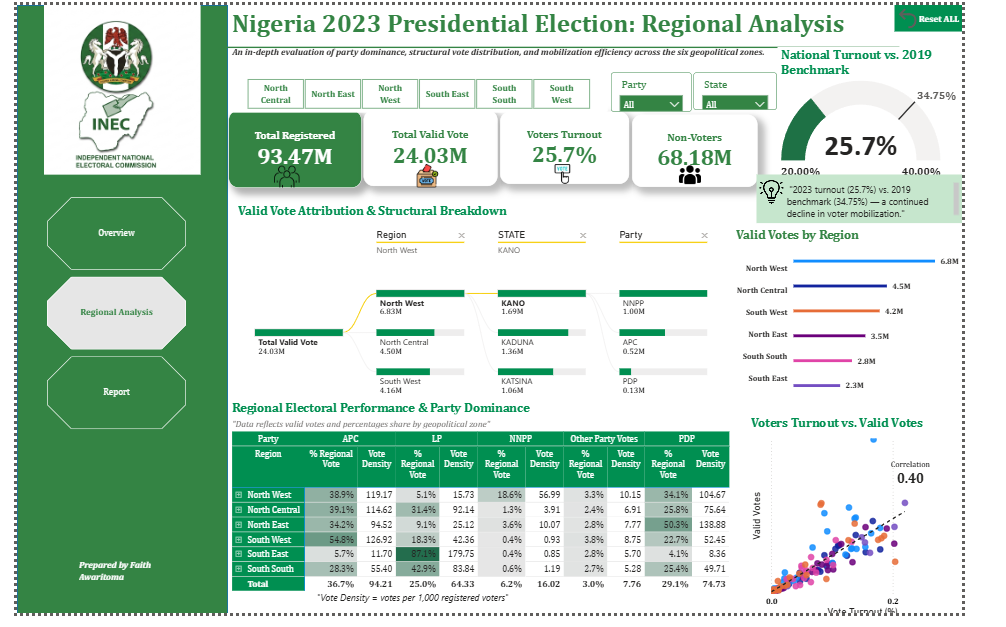

This screenshot's page, from the dashboard's own definition file:
{"tool":"powerbi","page":{"name":"Regional Analysis","canvas":[1400,900],"ordinal":1},"visuals":[{"type":"shape","box":[0,0,312.5,912.5],"z":0},{"type":"shape","box":[310.6,0,995.7,125.5],"z":1000},{"type":"textbox","box":[312.8,0,961.7,63.8],"z":2000},{"type":"image","title":"INEC logo","box":[0,0,312,251],"z":3000},{"type":"cardVisual","title":"Total Registered","fields":{"Data":["Dim_State.Total Registered"]},"box":[312.5,156.2,197.5,115],"z":4000},{"type":"cardVisual","title":"Valid Vote Cast","fields":{"Data":["Sum(Fact_Results.Total Valid Vote)"]},"box":[512.5,156.2,198.8,112.5],"z":5000},{"type":"cardVisual","title":"Voters Tuenout","fields":{"Data":["presidential-elections-results.Voters Turnout"]},"box":[715,157.5,191.2,107.5],"z":6000},{"type":"cardVisual","title":"Non-Voters","fields":{"Data":["Dim_State.Non-Voters"]},"box":[910,161.2,186.2,107.5],"z":7000},{"type":"textbox","box":[310.7,53.3,804,46.7],"z":8000},{"type":"slicer","fields":{"Values":["presidential-elections-results- (2).Party"]},"box":[879,100,119,58],"z":9000},{"type":"slicer","fields":{"Values":["presidential-elections-results- (2).STATE"]},"box":[1002,100,123,55],"z":10000},{"type":"slicer","fields":{"Values":["Dim_State.Region"]},"box":[312.8,100,561.7,59.6],"z":11000},{"type":"pageNavigator","box":[43.9,283.3,206.1,347],"z":12000},{"type":"clusteredBarChart","title":"Valid Votes by Region","fields":{"Category":["Dim_State.Region"],"Series":["Dim_State.Region"],"Y":["Sum(Fact_Results.Total Valid Vote)"]},"box":[1059.3,329.6,340.7,255.6],"z":13000},{"type":"textbox","box":[87.5,812.5,184.4,48.4],"z":14000},{"type":"image","box":[365.4,234.6,70.4,37],"z":15000},{"type":"image","box":[960.5,234.6,74.1,32.1],"z":16000},{"type":"image","box":[582.7,235.8,51.9,34.6],"z":17000},{"type":"image","box":[772.8,235.8,69.1,29.6],"z":18000},{"type":"pivotTable","title":"Regional Electoral Performance & Party Dominance","fields":{"Columns":["Fact_Results.Party"],"Rows":["Dim_State.Region","Dim_State.STATE"],"Values":["Dim_State.% Regional Vote","Dim_State.Vote Density"]},"box":[313,585.2,783.3,296.3],"z":19000},{"type":"gauge","title":"National Turnout vs. 2019 Benchmark","fields":{"Y":["Fact_Results.Regional Turnout %"]},"box":[1125.9,63,274.1,201.9],"z":20000},{"type":"decompositionTreeVisual","title":"Valid Vote Attribution & Structural Breakdown","fields":{"Analyze":["Sum(Fact_Results.Total Valid Vote)"],"ExplainBy":["Dim_State.Region","Dim_State.STATE","Fact_Results.Party"]},"box":[322.2,292.6,713,292.6],"z":21000},{"type":"actionButton","box":[1300,0,100,39.4],"z":22000},{"type":"scatterChart","title":"Voters Turnout vs. Valid Votes","fields":{"Series":["Dim_State.Region"],"X":["Fact_Results.Voters Turnout"],"Y":["Fact_Results.Total Valid Vote"]},"box":[1081.2,606.2,318.8,304.7],"z":23000,"group":"g1"},{"type":"group","id":"g1","title":"Group 1","box":[1081.2,606.2,318.8,304.7],"z":23000},{"type":"shape","box":[1096.3,251.9,305.6,72.2],"z":23001},{"type":"textbox","box":[1135.2,257.4,264.8,61.1],"z":23002},{"type":"image","box":[1100,257.4,35.2,38.9],"z":23003},{"type":"textbox","box":[435.2,861.1,474.1,38.9],"z":23004},{"type":"cardVisual","fields":{"Data":["Fact_Results.Turnout vs Votes Correlation"]},"box":[1262.4,650,118.8,84.4],"z":24000,"group":"g1"}]}

Visuals, with their boxes on the page's 1400x900 design canvas (x1, y1, x2, y2). These are canvas units, not pixel positions in the 1006x627 screenshot, which may show the page scaled, cropped or inside an application window:
shape: 0/0/312/912
shape: 311/0/1306/126
textbox: 313/0/1274/64
"INEC logo" image: 0/0/312/251
"Total Registered" cardVisual: 312/156/510/271
"Valid Vote Cast" cardVisual: 512/156/711/269
"Voters Tuenout" cardVisual: 715/158/906/265
"Non-Voters" cardVisual: 910/161/1096/269
textbox: 311/53/1115/100
slicer - presidential-elections-results- (2).Party: 879/100/998/158
slicer - presidential-elections-results- (2).STATE: 1002/100/1125/155
slicer - Dim_State.Region: 313/100/874/160
pageNavigator: 44/283/250/630
"Valid Votes by Region" clusteredBarChart: 1059/330/1400/585
textbox: 88/812/272/861
image: 365/235/436/272
image: 960/235/1035/267
image: 583/236/635/270
image: 773/236/842/265
"Regional Electoral Performance & Party Dominance" pivotTable: 313/585/1096/882
"National Turnout vs. 2019 Benchmark" gauge: 1126/63/1400/265
"Valid Vote Attribution & Structural Breakdown" decompositionTreeVisual: 322/293/1035/585
actionButton: 1300/0/1400/39
"Voters Turnout vs. Valid Votes" scatterChart: 1081/606/1400/911
"Group 1" group: 1081/606/1400/911
shape: 1096/252/1402/324
textbox: 1135/257/1400/318
image: 1100/257/1135/296
textbox: 435/861/909/900
cardVisual - Fact_Results.Turnout vs Votes Correlation: 1262/650/1381/734
